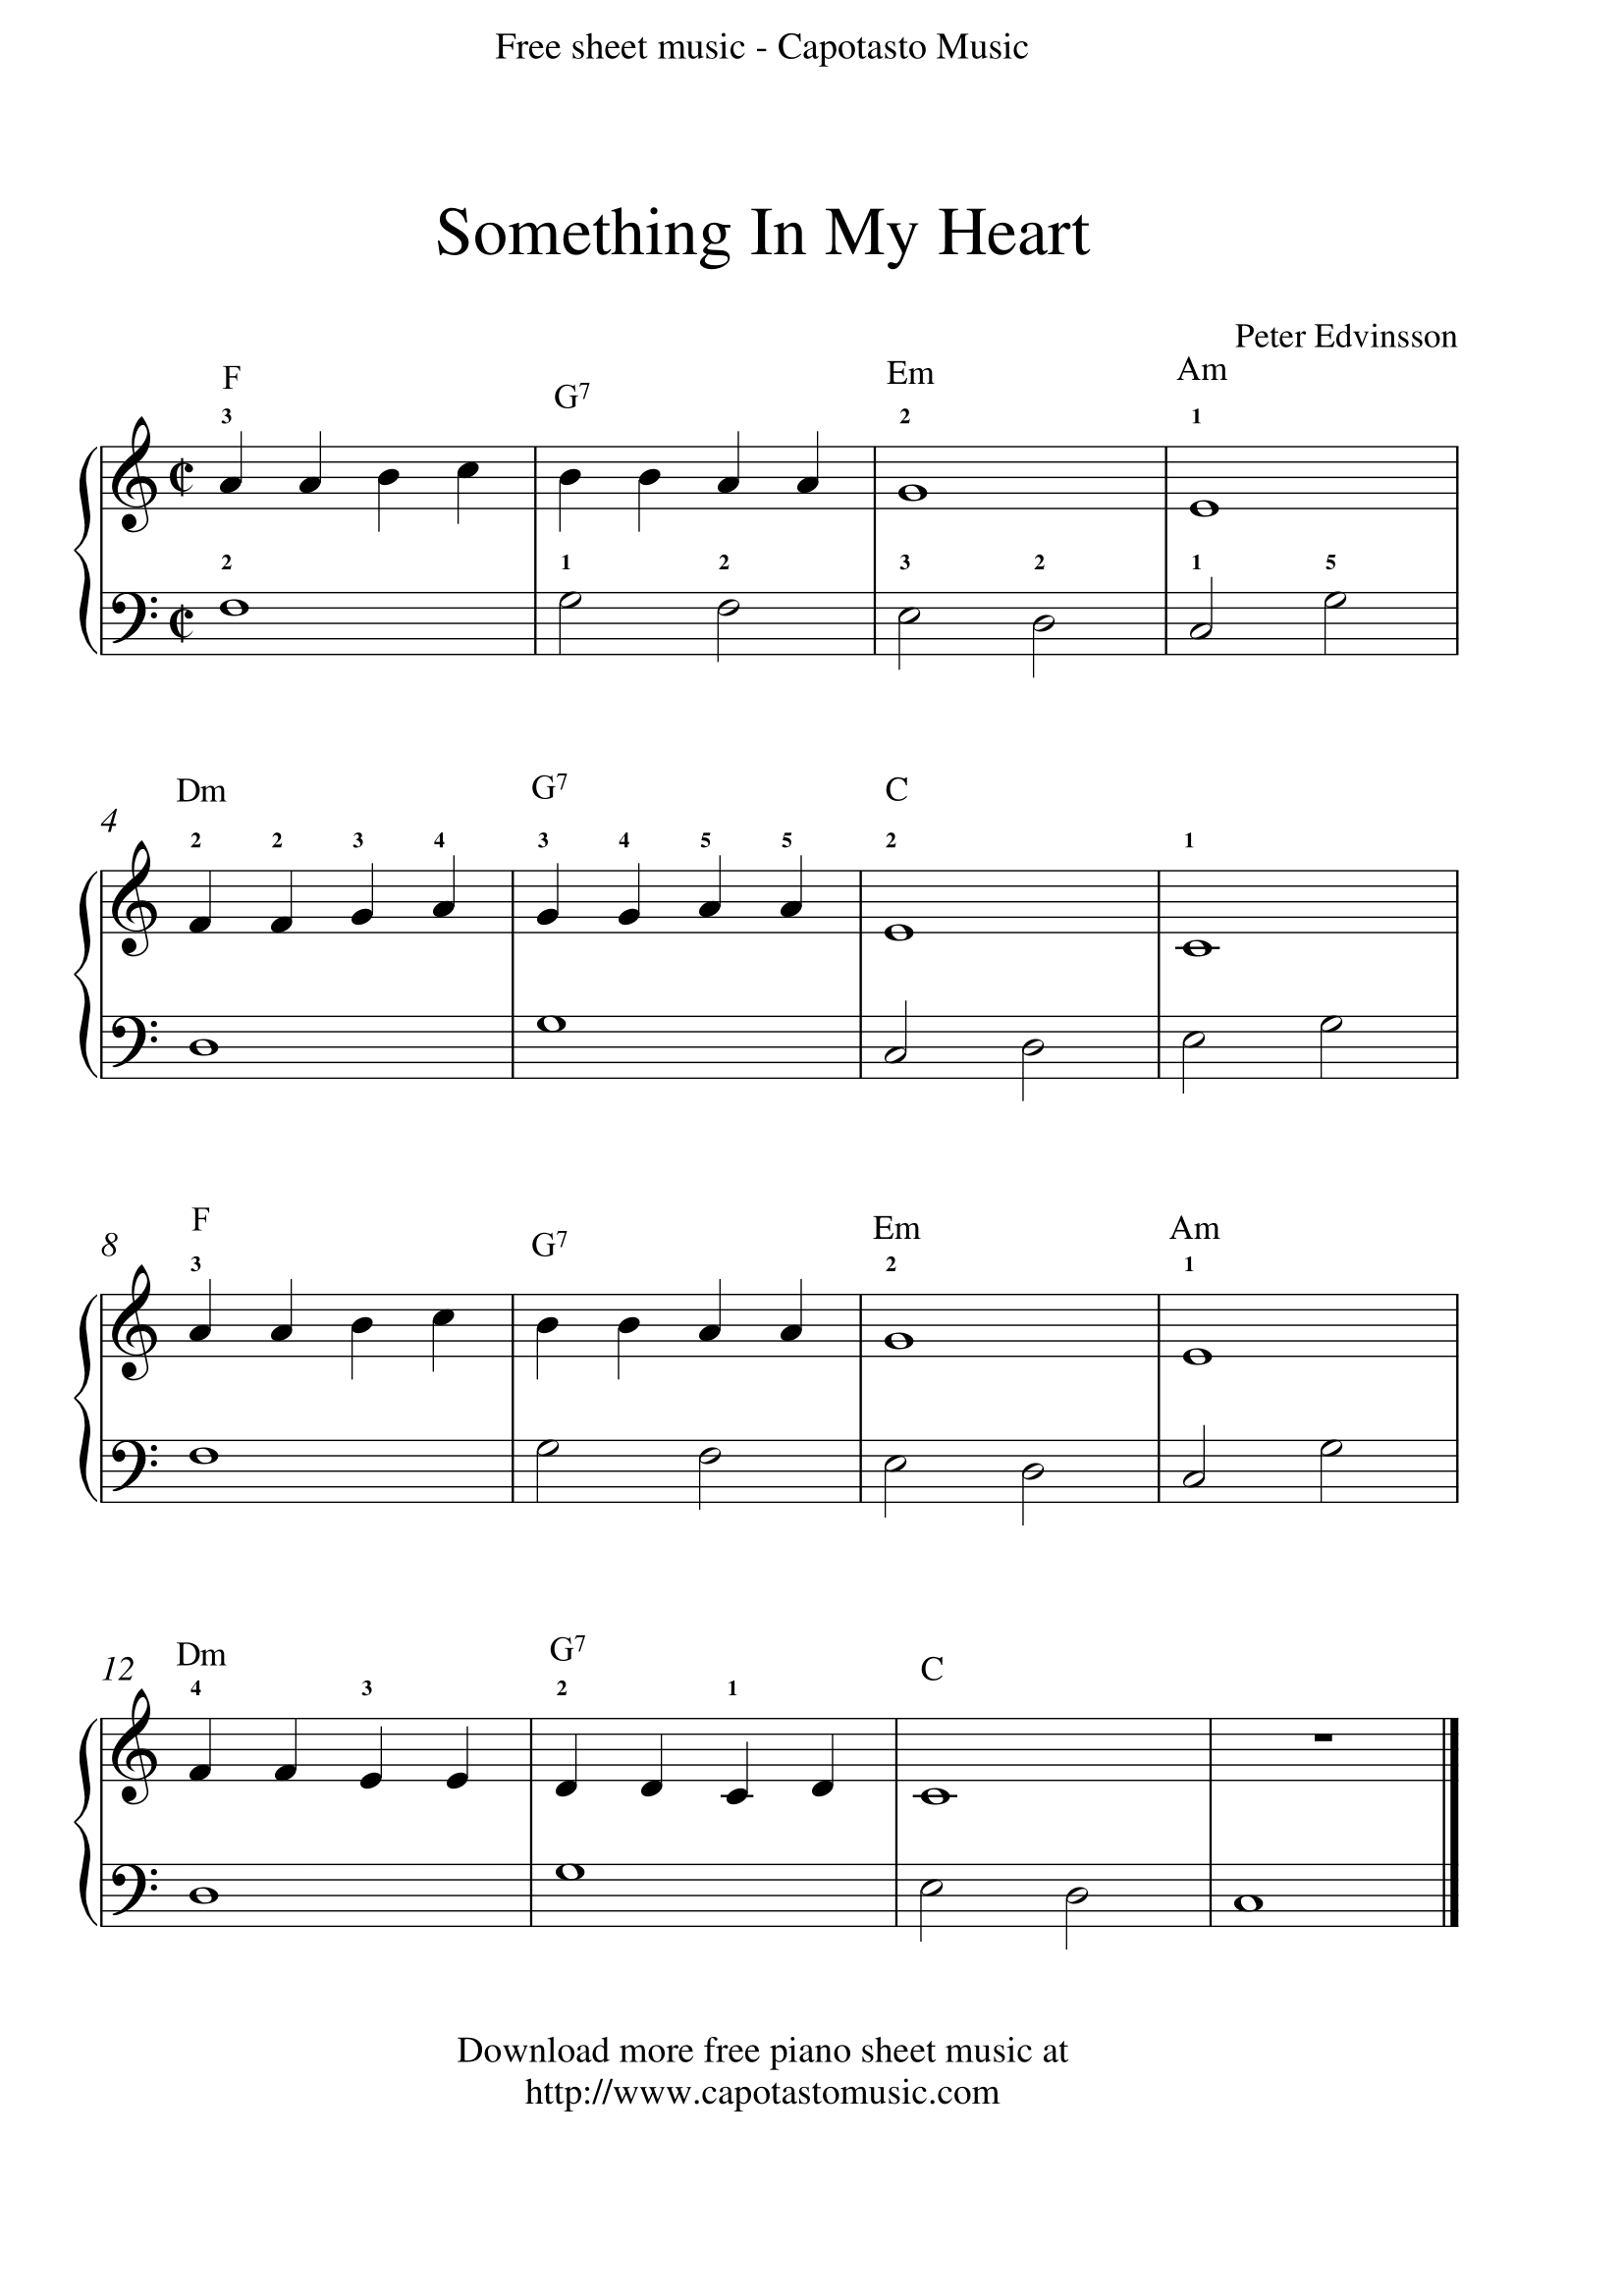half: (1179, 1425, 1226, 1536), (1001, 1434, 1055, 1529), (1055, 1859, 1103, 1963), (1020, 586, 1064, 684), (1007, 1013, 1052, 1111), (906, 1865, 953, 1953), (1182, 579, 1232, 662), (1309, 586, 1363, 662), (681, 1444, 738, 1514), (1172, 1013, 1217, 1098), (1309, 1434, 1353, 1514), (697, 586, 745, 659), (878, 1438, 909, 1545), (520, 1438, 568, 1504), (891, 595, 932, 668), (885, 1007, 922, 1086), (1309, 1013, 1350, 1080), (555, 592, 590, 659)
quarter: (539, 440, 586, 548), (717, 1716, 767, 1814), (630, 1723, 678, 1824), (774, 1282, 821, 1380), (549, 1720, 596, 1818), (266, 1273, 314, 1368), (713, 424, 754, 535), (684, 865, 732, 959), (206, 428, 257, 513), (289, 431, 340, 516), (352, 1713, 397, 1811), (627, 440, 669, 545), (526, 868, 577, 950), (181, 1279, 232, 1362), (792, 431, 837, 526), (606, 1292, 647, 1393), (691, 1282, 735, 1374), (444, 1716, 485, 1814), (422, 1289, 466, 1380), (805, 1720, 849, 1808), (526, 1302, 568, 1393), (451, 447, 492, 532), (612, 868, 656, 947), (263, 871, 307, 943), (188, 1716, 226, 1798), (343, 1299, 377, 1390), (273, 1713, 307, 1802), (431, 868, 469, 947), (368, 450, 406, 529), (346, 868, 384, 943), (777, 868, 811, 947), (188, 865, 222, 940)
whole: (1172, 871, 1229, 972), (909, 1723, 963, 1824), (875, 1289, 929, 1380), (891, 447, 935, 558), (1172, 1289, 1219, 1384), (520, 1010, 580, 1077), (181, 1434, 232, 1511), (549, 1855, 599, 1929), (1179, 450, 1223, 532), (872, 871, 916, 950), (181, 1007, 229, 1080), (1223, 1862, 1271, 1935), (222, 592, 266, 665), (181, 1865, 219, 1919)
